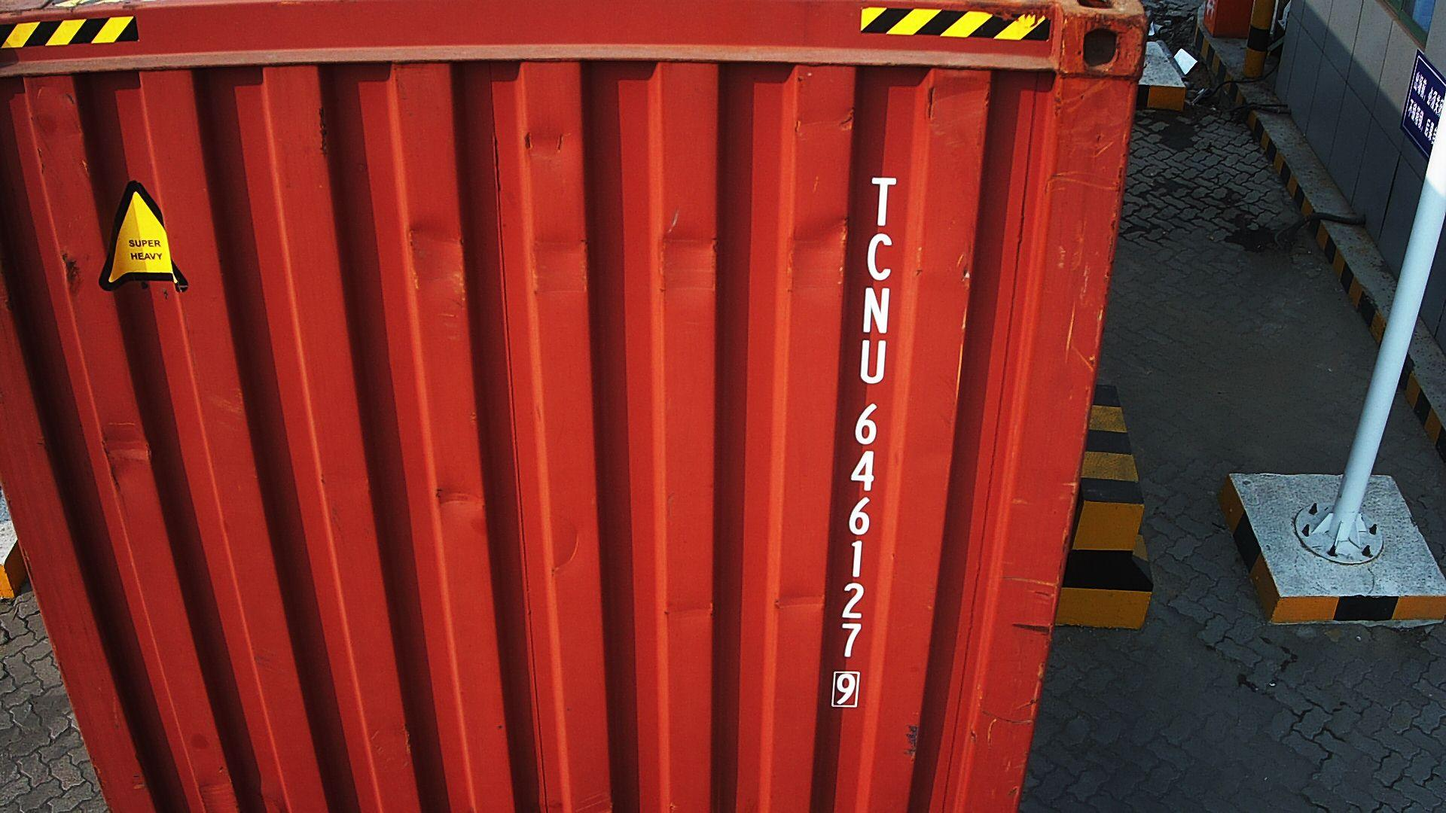container-numbers: (827, 173, 901, 710)
